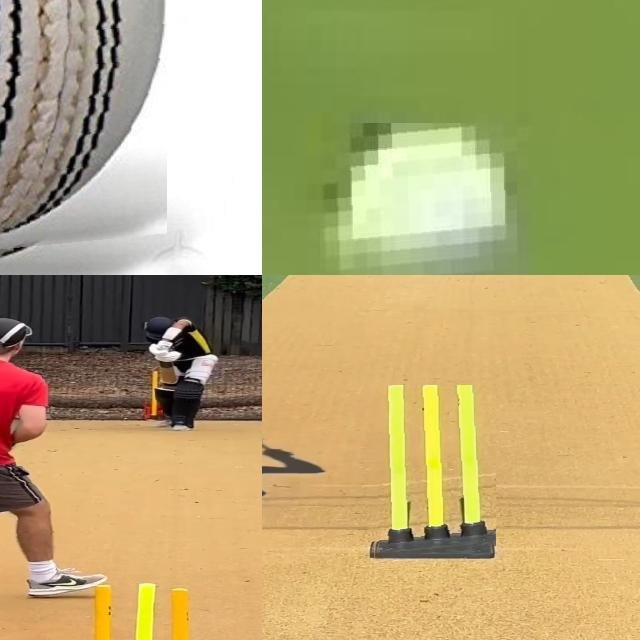Cricket ball: (0, 0, 167, 275), (318, 123, 516, 275)
Stumps: (369, 385, 496, 558), (70, 583, 210, 640)
